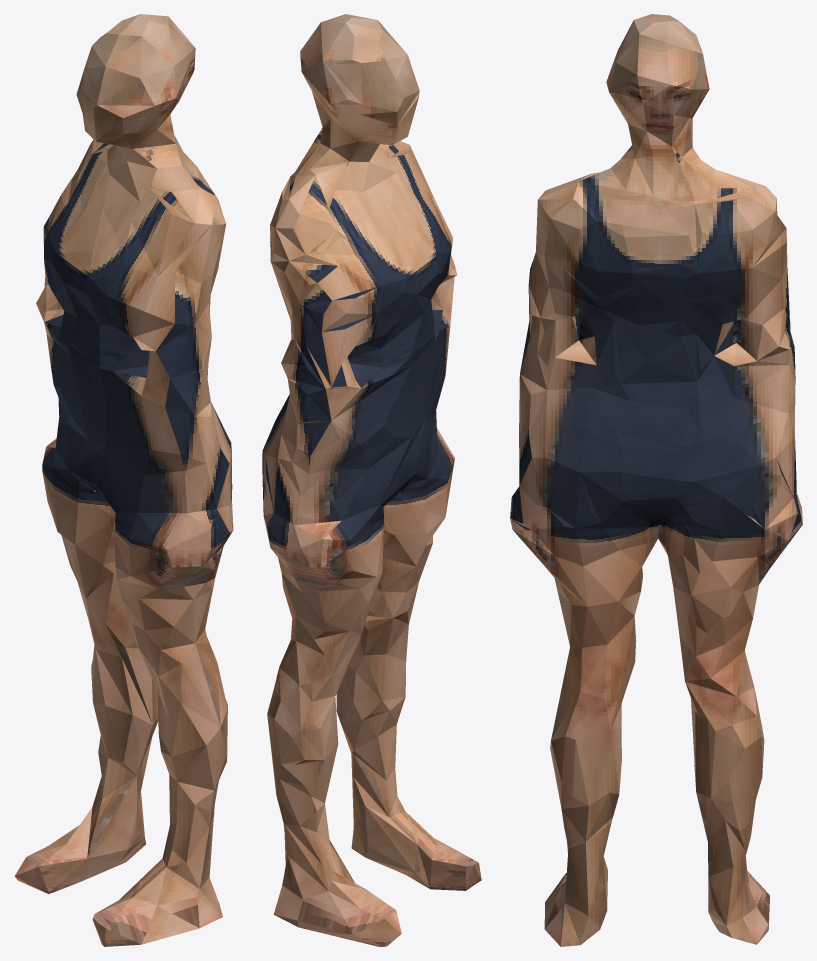
Rendered from personaje.base.cuerpo_mujer_5.glb.
3 views of the same model, side by side, from view 1: azimuth 30°, elevation 25°; view 2: azimuth 150°, elevation 25°; view 3: azimuth 270°, elevation 25° (orthographic). The views are drawn at different scales.
Parts seen in each view (by area): view 1: personaje.base.cuerpo_mujer_5; view 2: personaje.base.cuerpo_mujer_5; view 3: personaje.base.cuerpo_mujer_5.
Boxes of the visible parts, left/top/right/bottom form: personaje.base.cuerpo_mujer_5: left=14, top=14, right=233, bottom=946; personaje.base.cuerpo_mujer_5: left=262, top=14, right=481, bottom=946; personaje.base.cuerpo_mujer_5: left=510, top=14, right=802, bottom=946.
Size of the model in its own units: 0.2824 by 1.6 by 0.4617.
1 material, 1 textured.
